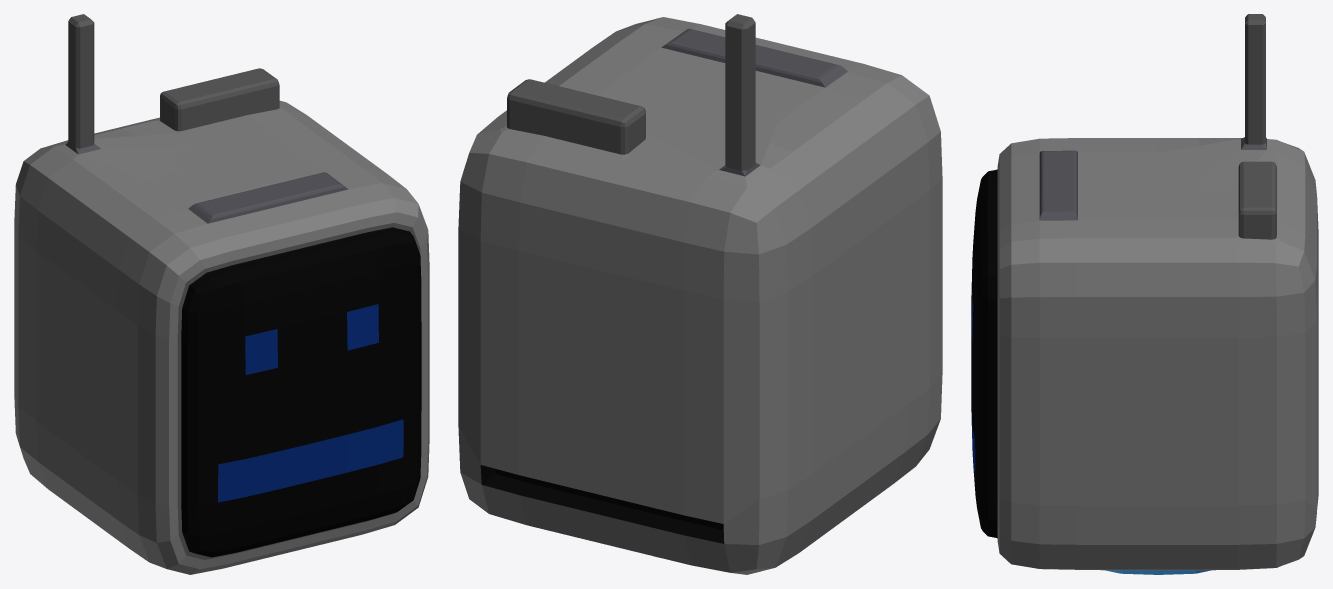
Rendered from RoboTV.fbx.
3 renders of one model, left to right at view 1: azimuth 30°, elevation 25°; view 2: azimuth 150°, elevation 25°; view 3: azimuth 270°, elevation 25°, orthographic. The views are drawn at different scales.
Parts seen in each view (by area): view 1: Cube.216; view 2: Cube.216; view 3: Cube.216.
Part boxes in pixels (x1=…): Cube.216: x1=14, y1=14, x2=429, y2=574; Cube.216: x1=458, y1=14, x2=942, y2=574; Cube.216: x1=971, y1=14, x2=1318, y2=574.
Bounding box in the file's own units: 39.17 × 66.84 × 42.43.
Materials: 1 (1 with a texture image).
